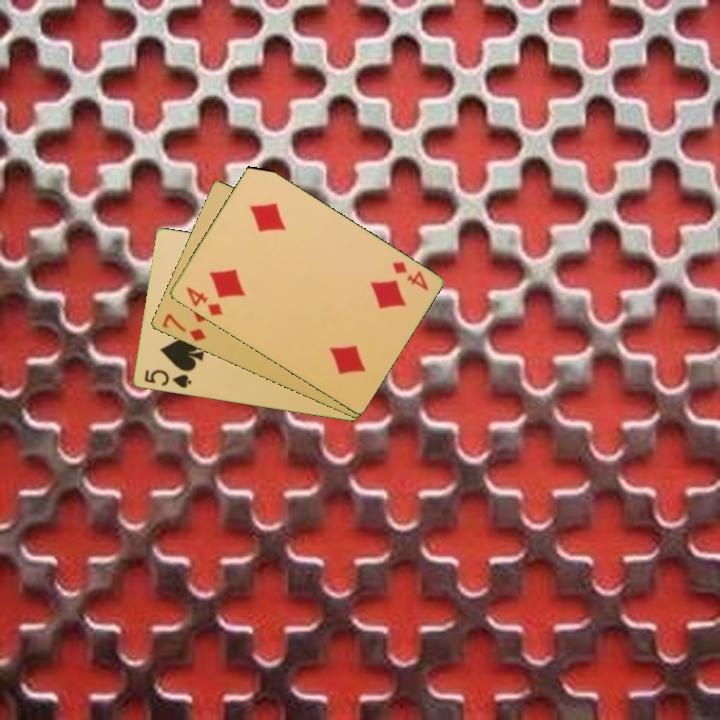4d: (182, 283, 226, 319), (388, 258, 431, 294)
5s: (141, 366, 194, 391)
7d: (158, 310, 209, 344)
